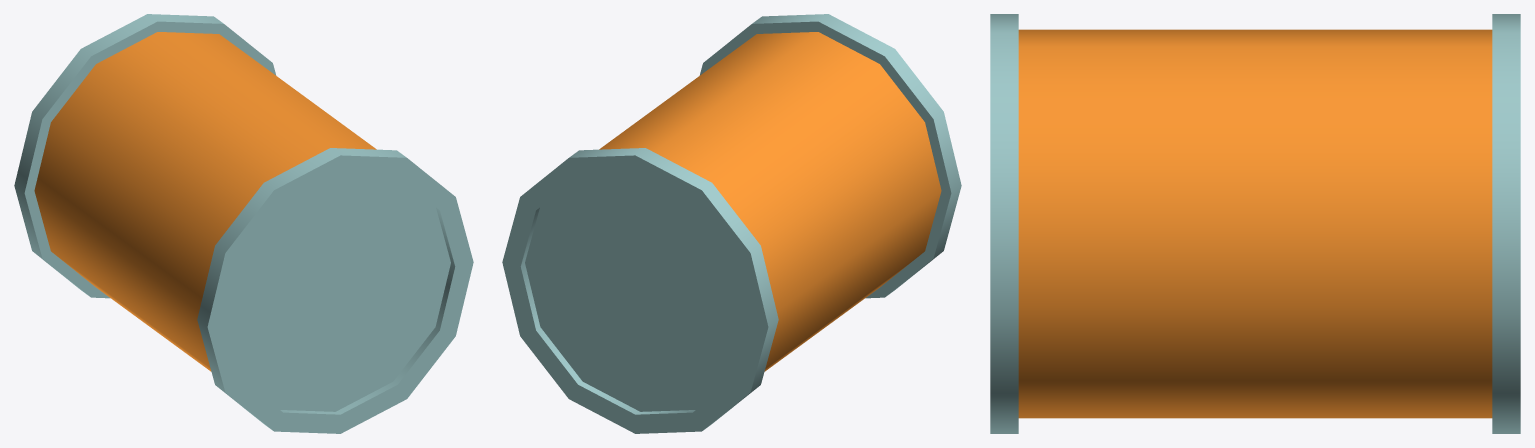
File: can2.glb
The picture shows the model from 3 angles, left to right: view 1: azimuth 30°, elevation 25°; view 2: azimuth 150°, elevation 25°; view 3: azimuth 270°, elevation 25°; orthographic projection. The views are drawn at different scales.
Parts seen in each view (by area): view 1: can; view 2: can; view 3: can.
Part boxes in pixels (x1=…): can: x1=14, y1=14, x2=473, y2=433; can: x1=502, y1=14, x2=961, y2=433; can: x1=990, y1=14, x2=1520, y2=433.
Size of what is drawn, in the model's own units: 0.2283 by 0.2283 by 0.287.
1 material, 1 textured.
